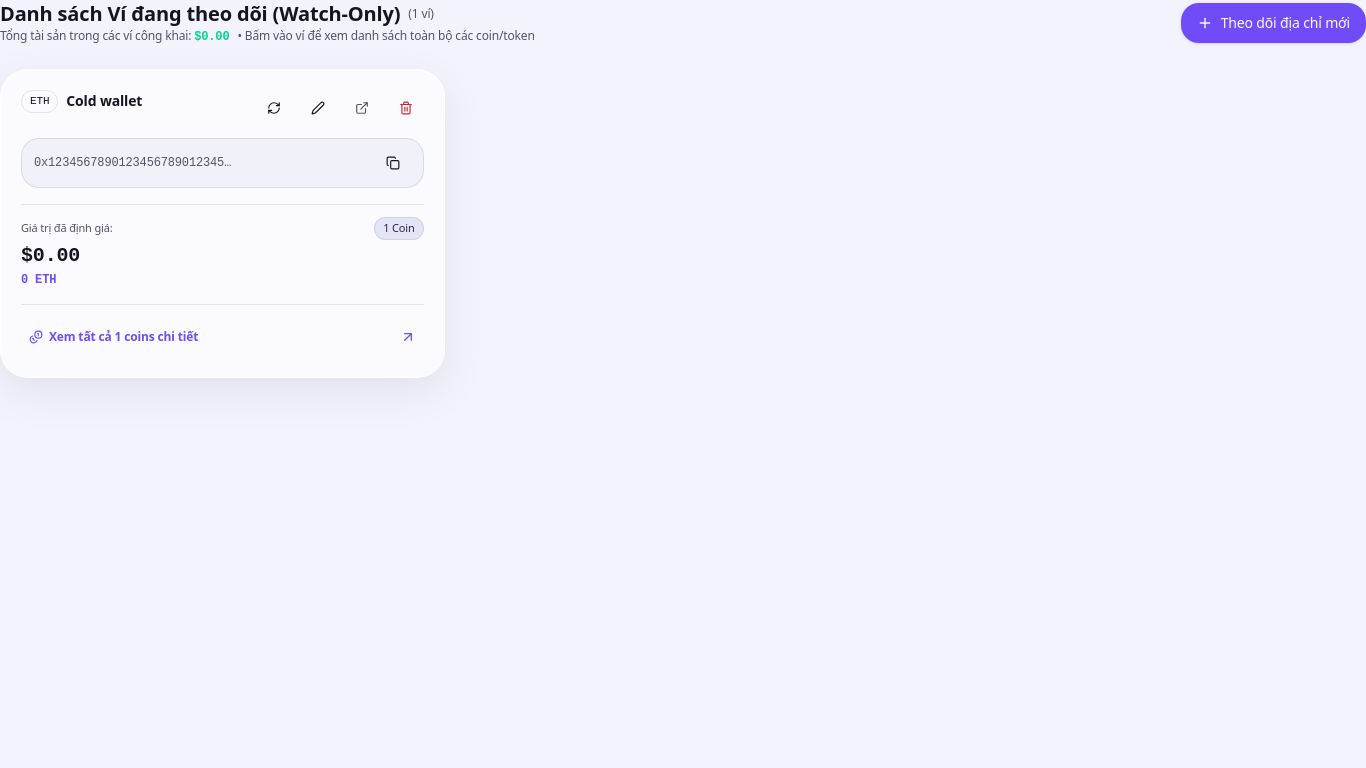
Test: ViewOnlyWallets › opens delete confirmation in an accessible shadcn dialog
Click the button titled "Xóa ví khỏi danh sách theo dõi" at (406, 108), box [388, 90, 424, 126]
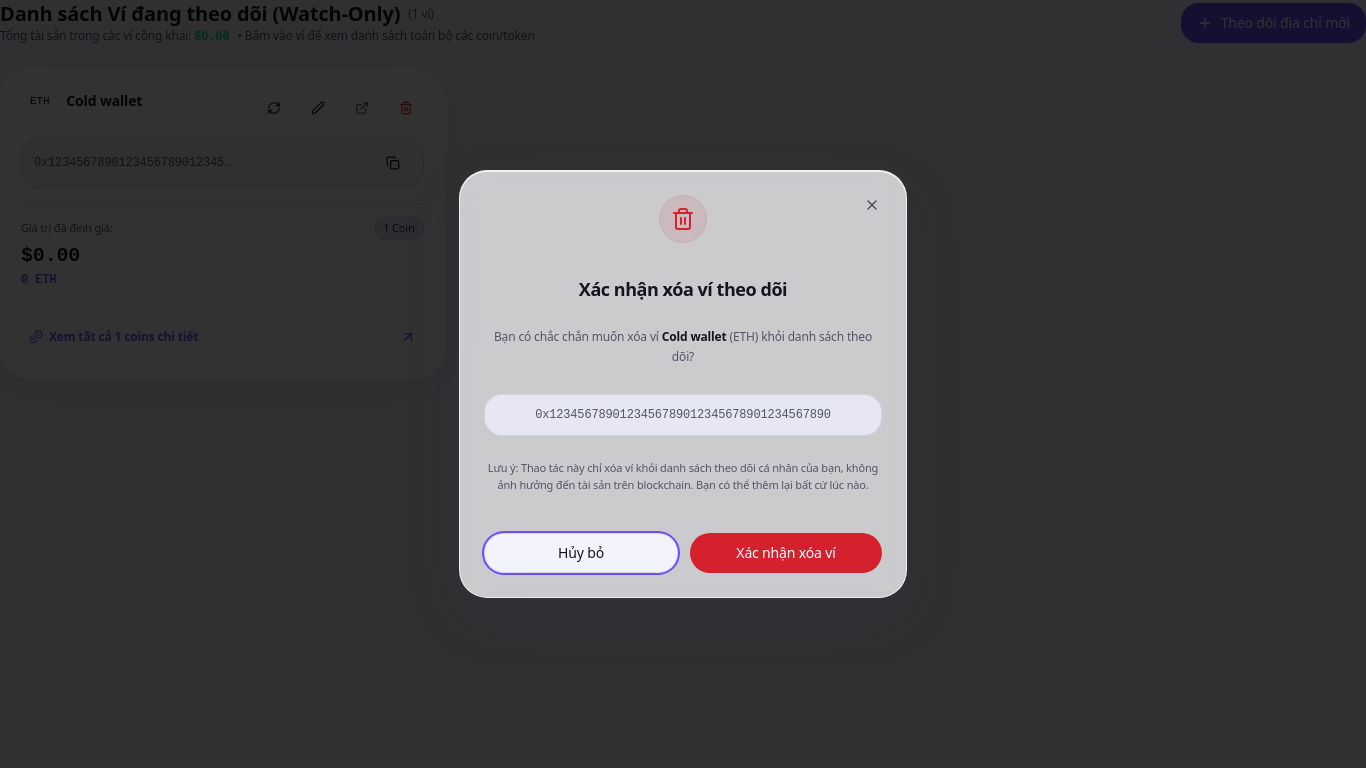
Expected: the dialog "Xác nhận xóa ví theo dõi" is shown, [459, 170, 907, 598]
